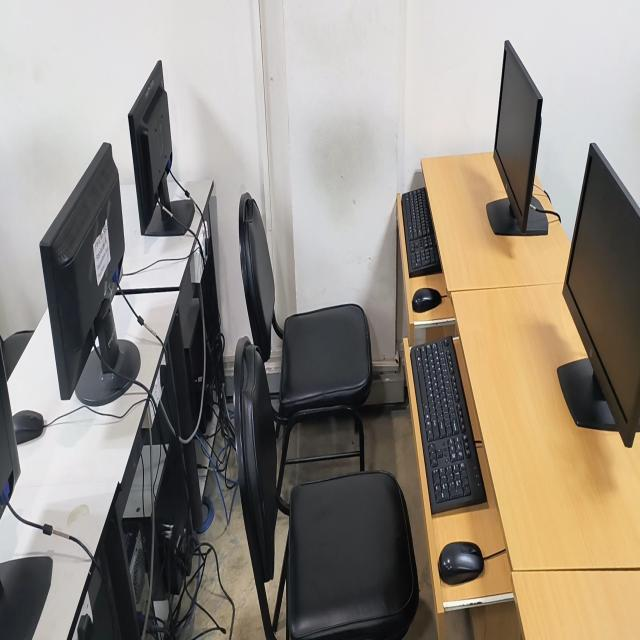Chair: (234, 305, 418, 639), (239, 194, 373, 513)
Cpu: (130, 531, 147, 611)
Keyboard: (410, 337, 486, 513), (401, 188, 441, 276)
Monitor: (40, 143, 140, 406), (557, 144, 640, 447), (128, 62, 194, 236), (494, 41, 542, 233), (0, 556, 52, 639), (0, 337, 20, 519)
Mouse: (438, 542, 484, 585), (13, 410, 44, 444), (412, 288, 442, 312)
